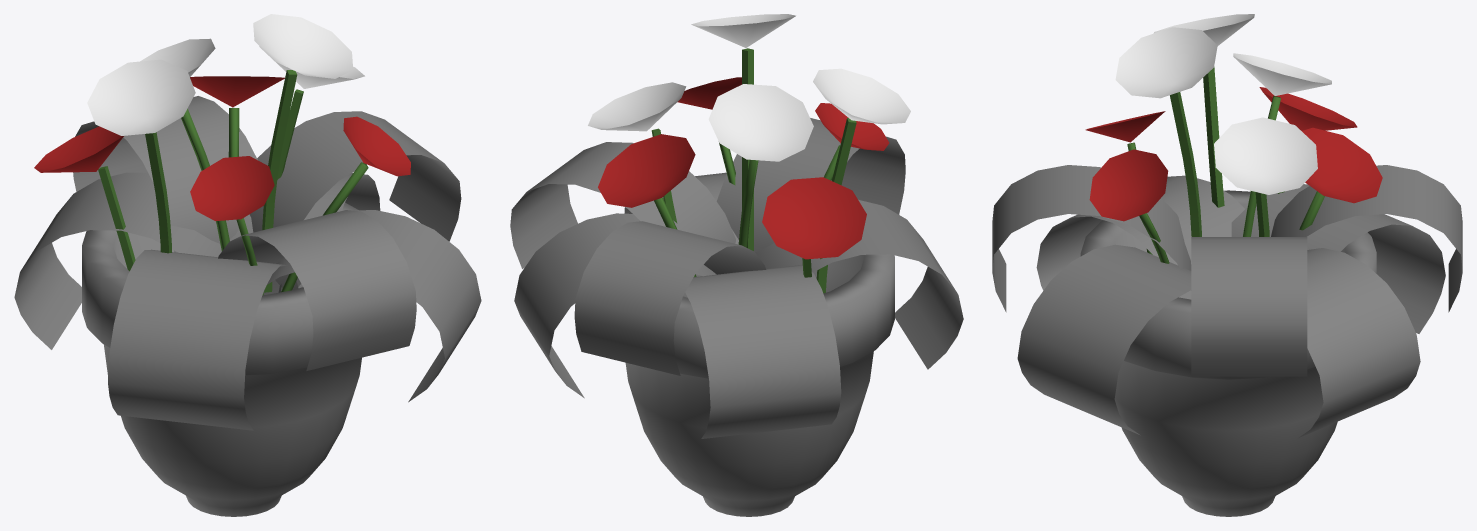
File: SM_flowerpot_02.fbx
The picture shows the model from 3 angles, left to right: view 1: azimuth 30°, elevation 25°; view 2: azimuth 150°, elevation 25°; view 3: azimuth 270°, elevation 25°; orthographic projection. The views are drawn at different scales.
Parts seen in each view (by area): view 1: Object342688; view 2: Object342688; view 3: Object342688.
Boxes of the visible parts, bbox=[...] form: Object342688: bbox=[14, 14, 481, 516]; Object342688: bbox=[510, 14, 963, 516]; Object342688: bbox=[992, 14, 1462, 516].
Size of the model in its own units: 26.7 by 32.17 by 29.17.
